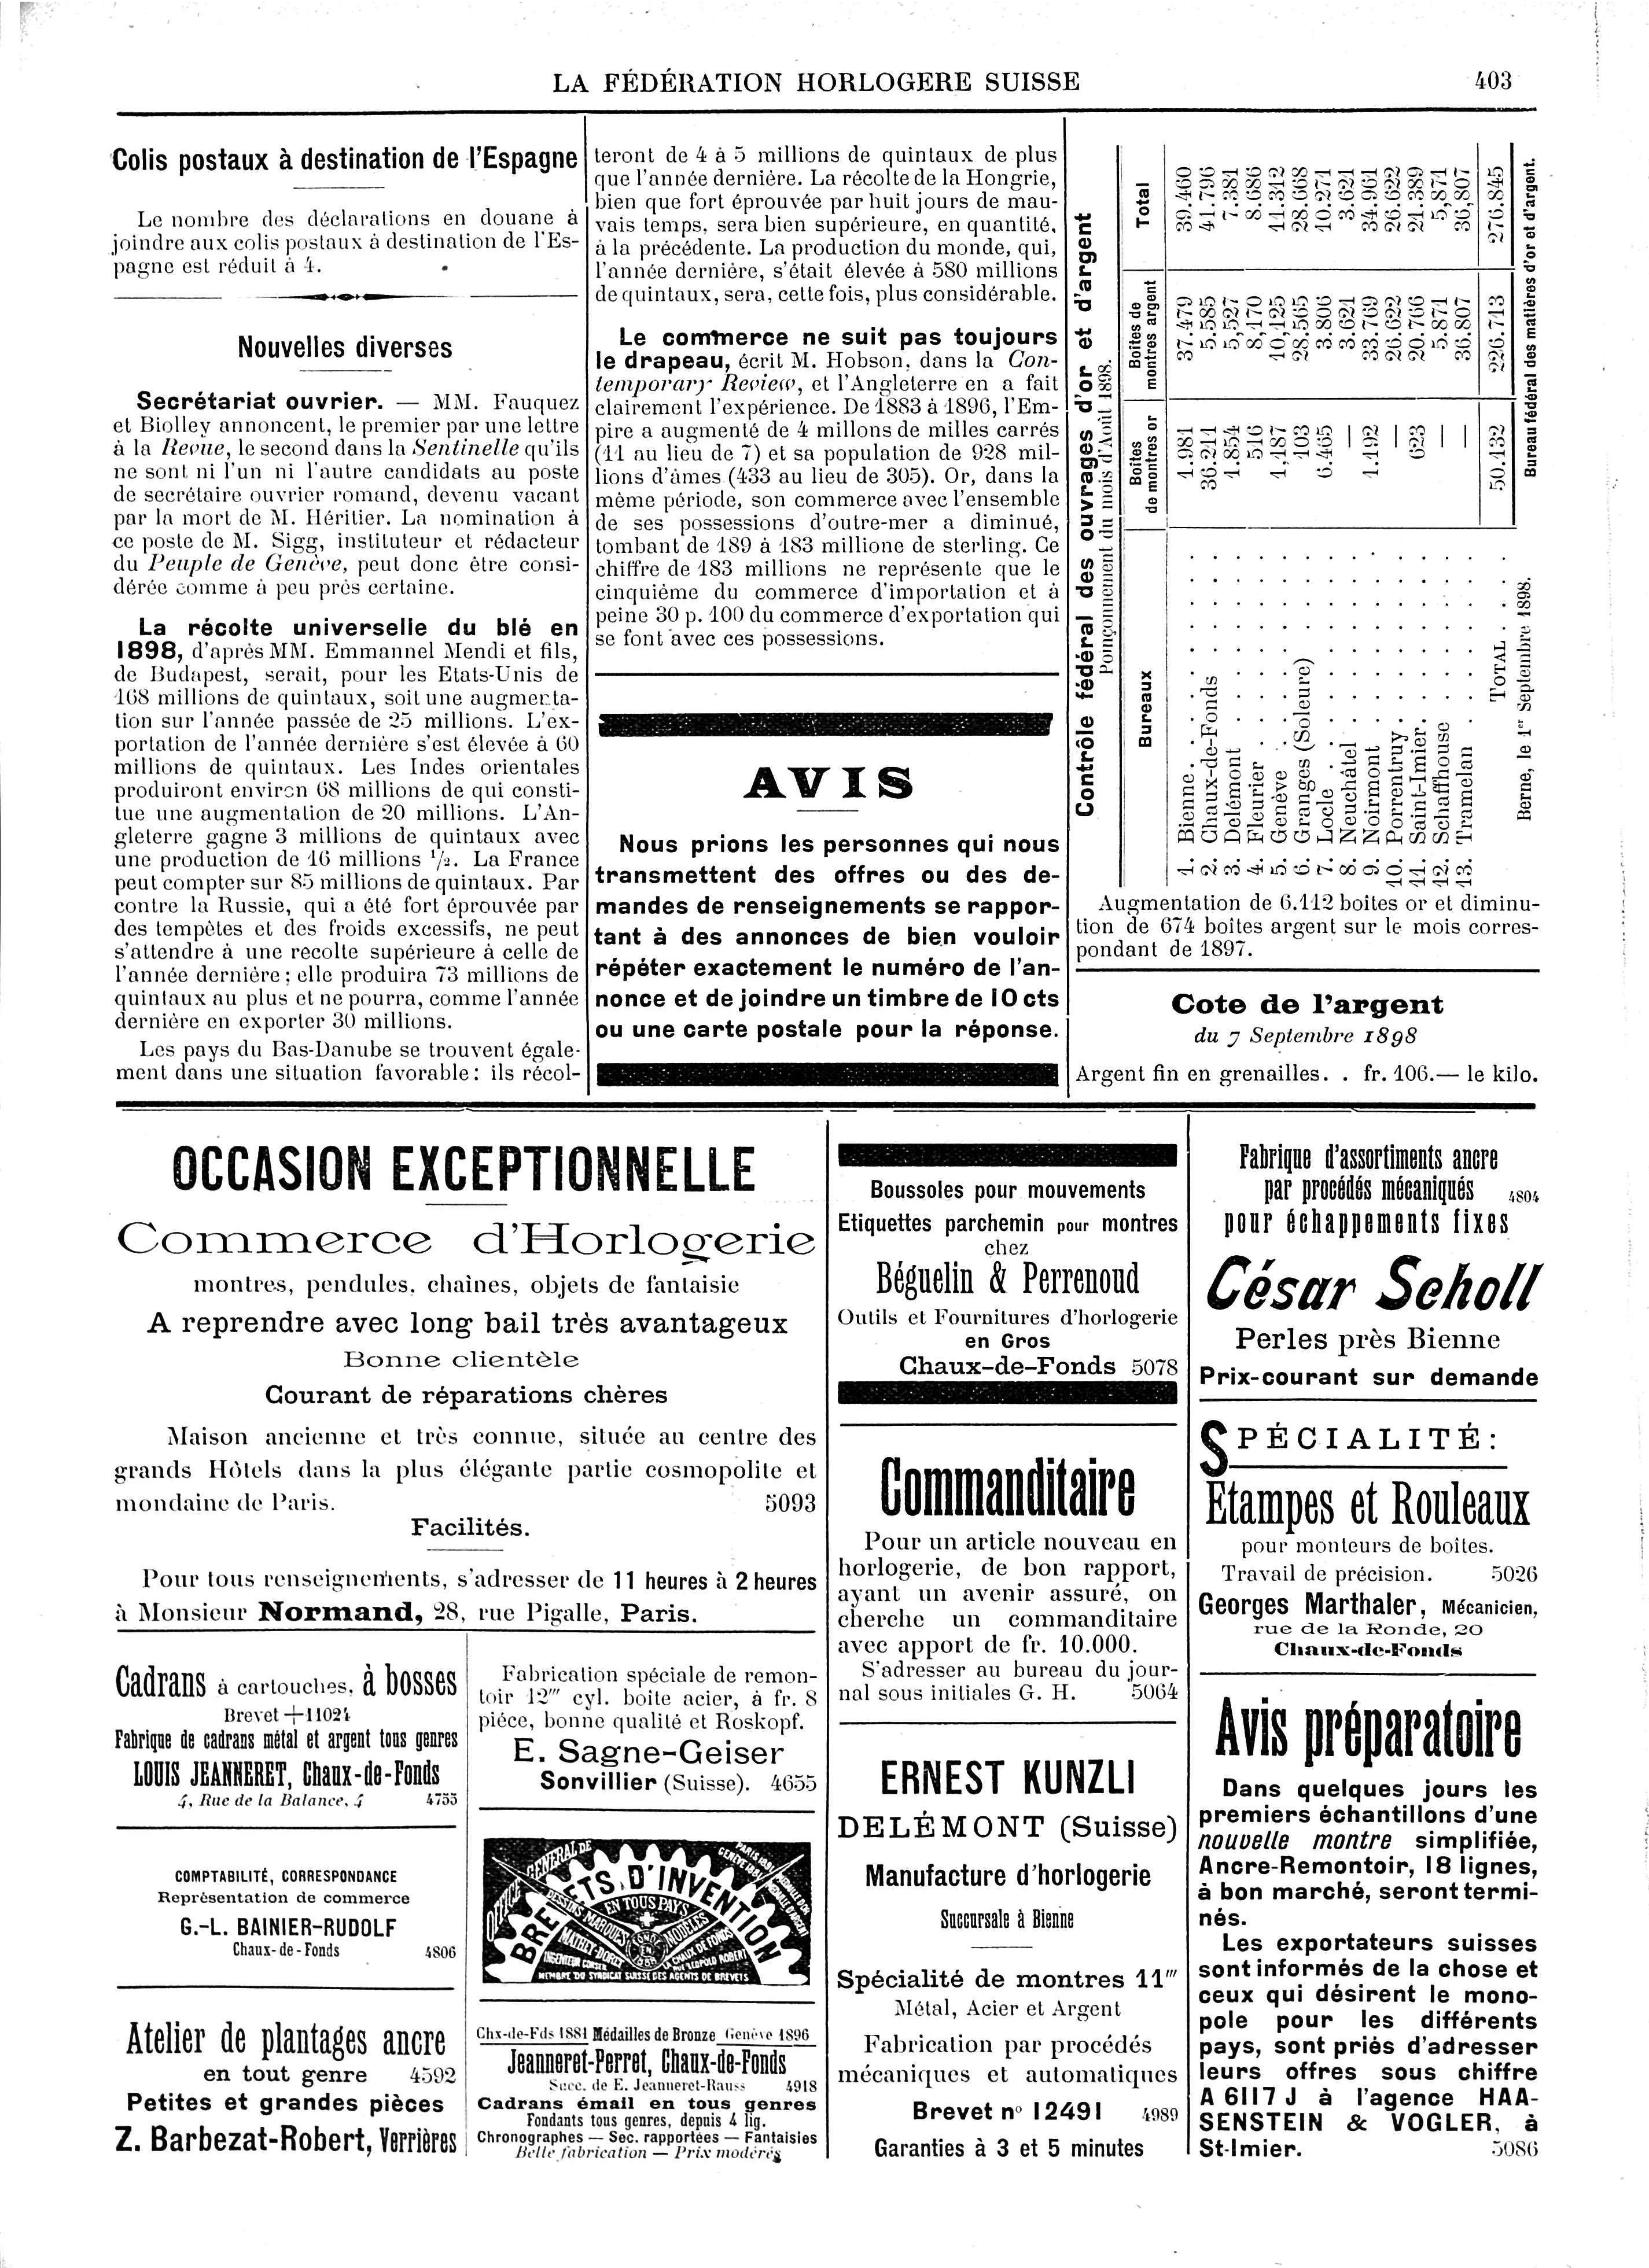figure: (1119, 150, 1543, 896), (467, 1835, 812, 1984)
section: (106, 1655, 453, 1801), (120, 2009, 447, 2155), (1186, 1416, 1529, 1525), (171, 1136, 756, 1199), (116, 1222, 812, 1270), (844, 1763, 1170, 1845), (1216, 1148, 1536, 1226), (1209, 1692, 1526, 1766), (863, 1861, 1152, 1939), (1203, 1252, 1533, 1319), (867, 1449, 1140, 1516), (109, 139, 557, 176), (867, 1243, 1147, 1301), (736, 759, 916, 815), (1166, 993, 1443, 1028), (229, 336, 467, 366)
text: (127, 623, 587, 1032), (610, 326, 1055, 650), (120, 393, 587, 597), (603, 833, 1055, 1042), (1200, 1942, 1543, 2162), (583, 143, 1059, 294), (113, 1423, 812, 1521), (160, 1289, 793, 1395), (833, 1969, 1179, 2152), (833, 1528, 1166, 1715), (1203, 1778, 1543, 1928), (474, 2025, 819, 2159), (106, 202, 583, 294), (1196, 1539, 1536, 1666), (97, 1565, 809, 1622), (476, 1666, 800, 1789), (1080, 900, 1552, 976), (153, 1858, 412, 1965), (837, 1308, 1173, 1382), (120, 1042, 576, 1093), (833, 1173, 1175, 1236), (1073, 206, 1106, 826), (1196, 1335, 1533, 1393), (553, 63, 1073, 100), (1073, 1062, 1547, 1095)
